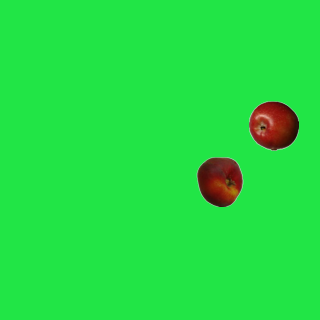Apple Braeburn: (248, 100, 298, 150)
Nectarine Flat: (194, 156, 244, 206)
